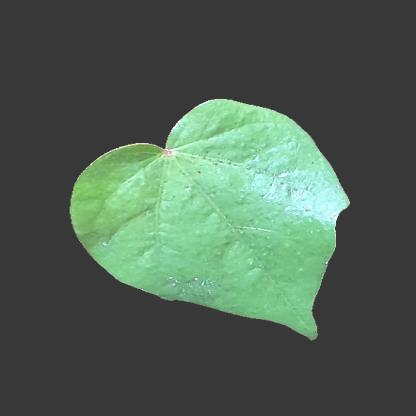healthy: (158, 156, 317, 286), (95, 193, 159, 259), (183, 115, 285, 150), (84, 154, 162, 186), (229, 289, 307, 311)
